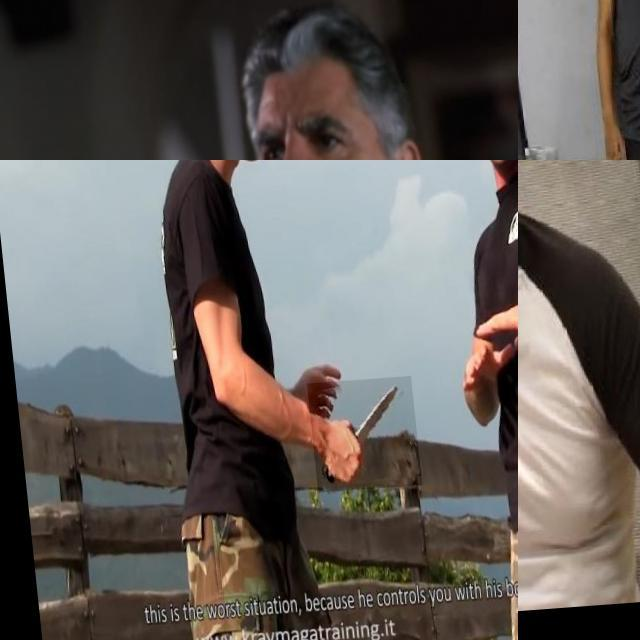-: (299, 382, 412, 497), (518, 294, 565, 537)
